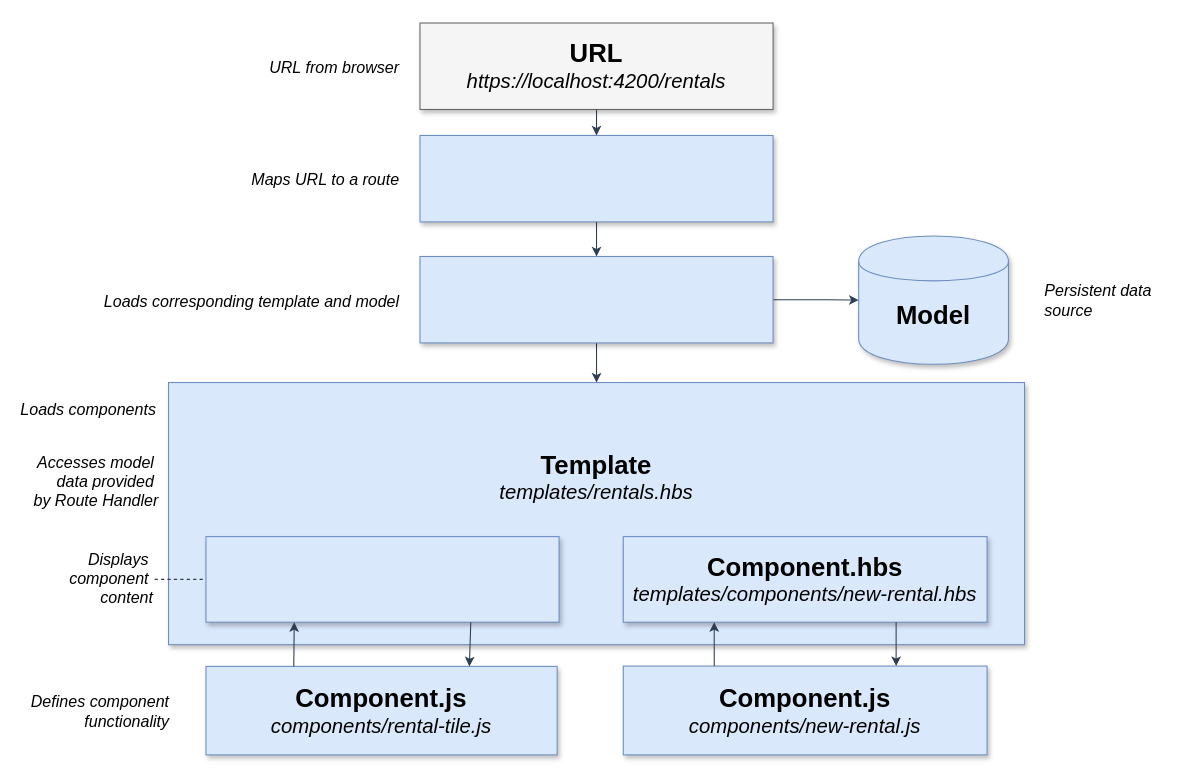
Some shapes in this 1189 by 781 pixel diagram are drawn without their labels. Here are the shapes that lost their labels. From the top down, the centre of each, then its label:
At point 597,179: "Router router.js".
At point 597,300: "Route Handler routes/rentals.js".
At point 383,580: "Component.hbs templates/components/rental-tile.hbs".
